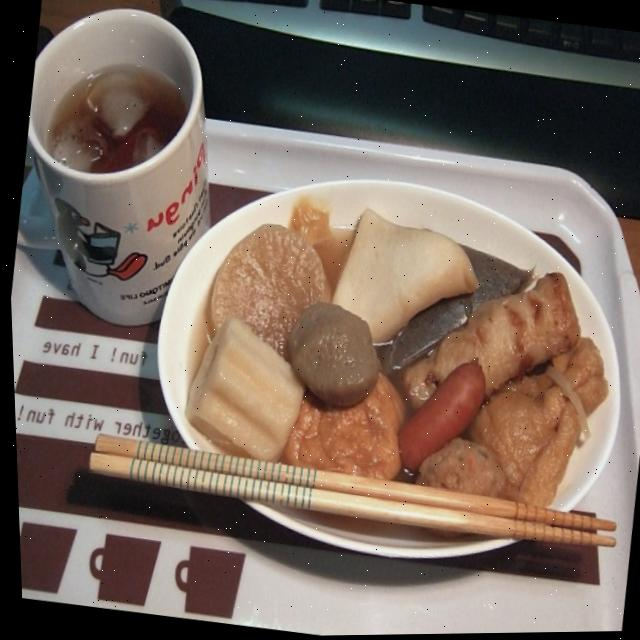汤锅炖物: (173, 181, 637, 498)
